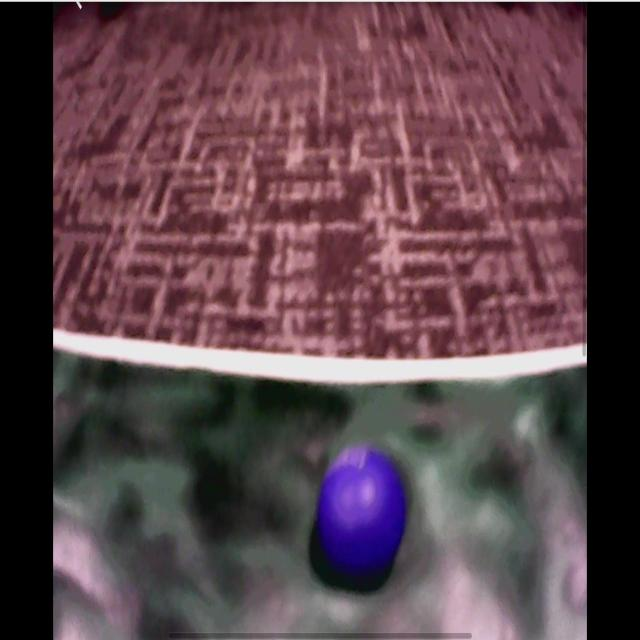ball: (320, 449, 405, 577)
